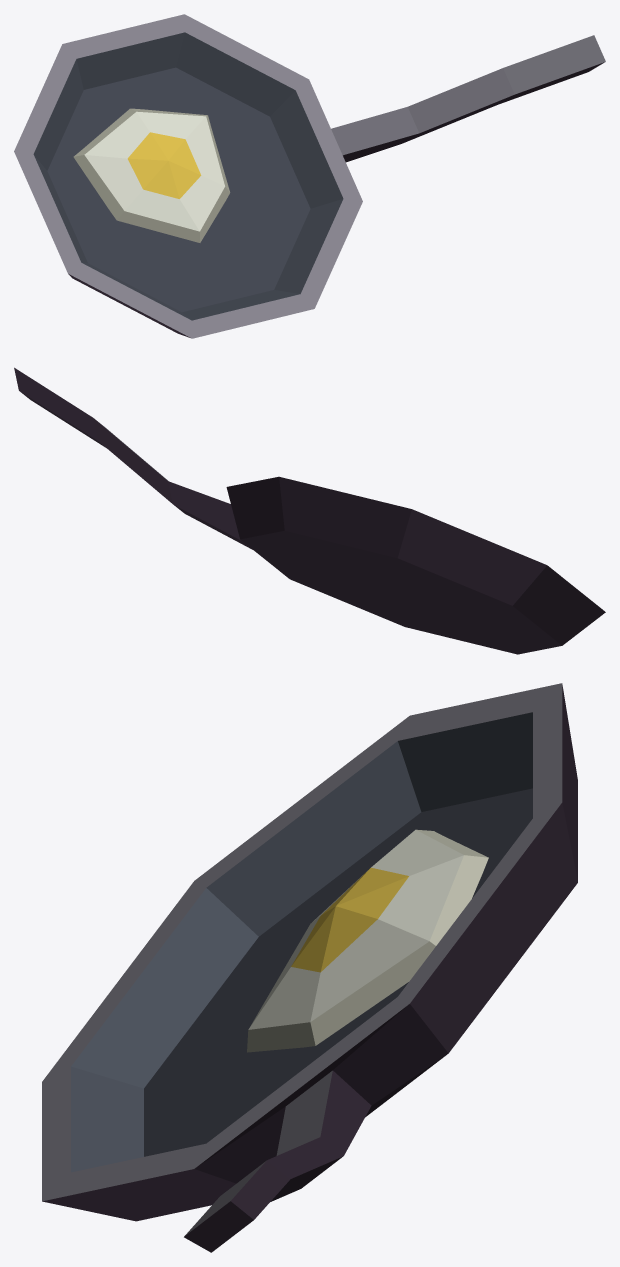
The model's file is pan.fbx.
3 views of the same model, one above another, from view 1: azimuth 30°, elevation 25°; view 2: azimuth 150°, elevation 25°; view 3: azimuth 270°, elevation 25° (orthographic). The views are drawn at different scales.
Parts seen in each view (by area): view 1: pan; view 2: pan; view 3: pan.
Boxes of the visible parts, left/top/right/bottom form: pan: left=14, top=14, right=605, bottom=338; pan: left=14, top=367, right=605, bottom=654; pan: left=42, top=683, right=577, bottom=1252.
Size of the model in its own units: 395 by 151 by 171.
